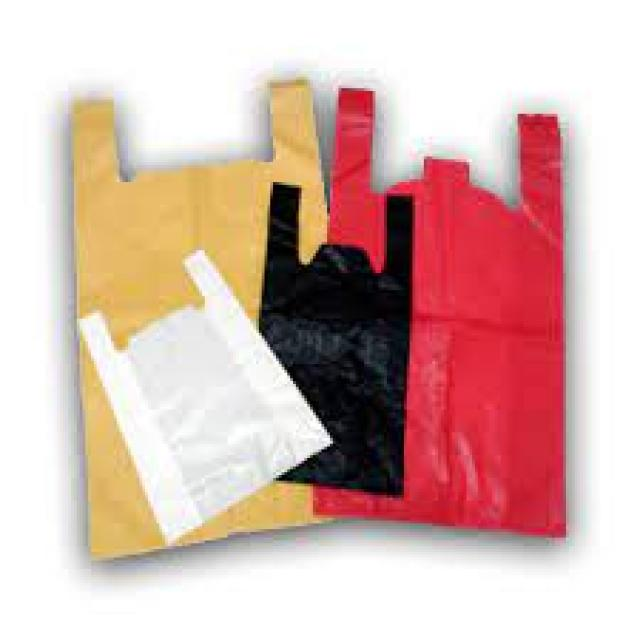Plastic: (72, 77, 338, 566), (316, 77, 562, 554), (82, 251, 336, 547), (253, 176, 415, 507)
